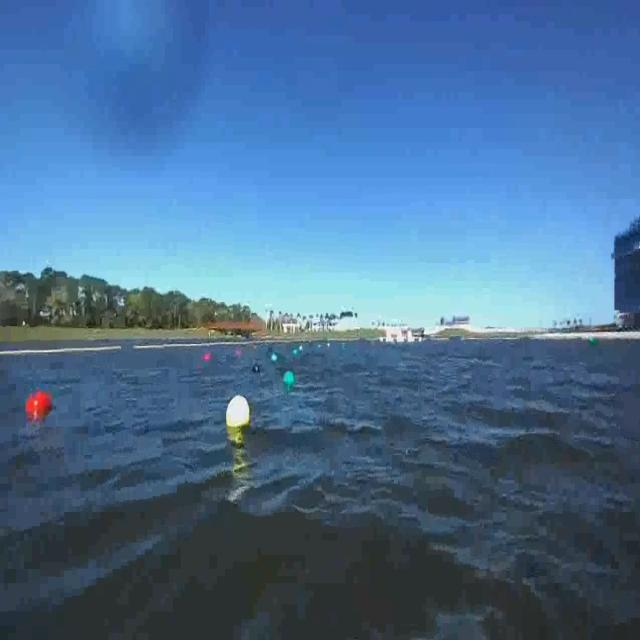black-buoy: (252, 362, 261, 374)
green-buoy: (284, 371, 296, 389)
red-buoy: (30, 391, 54, 416)
yellow-buoy: (227, 397, 251, 430)
